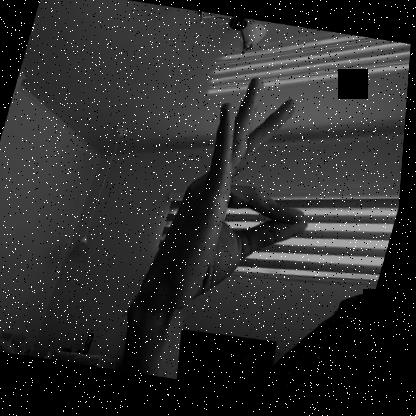F: (139, 63, 351, 338)
